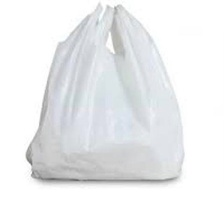plastic_bag: (23, 0, 190, 188)
